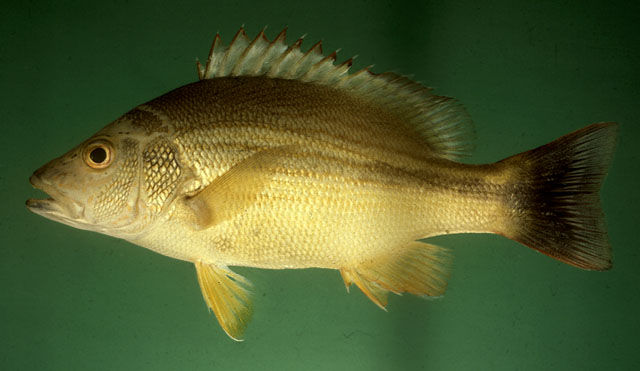fish: (26, 21, 618, 343)
